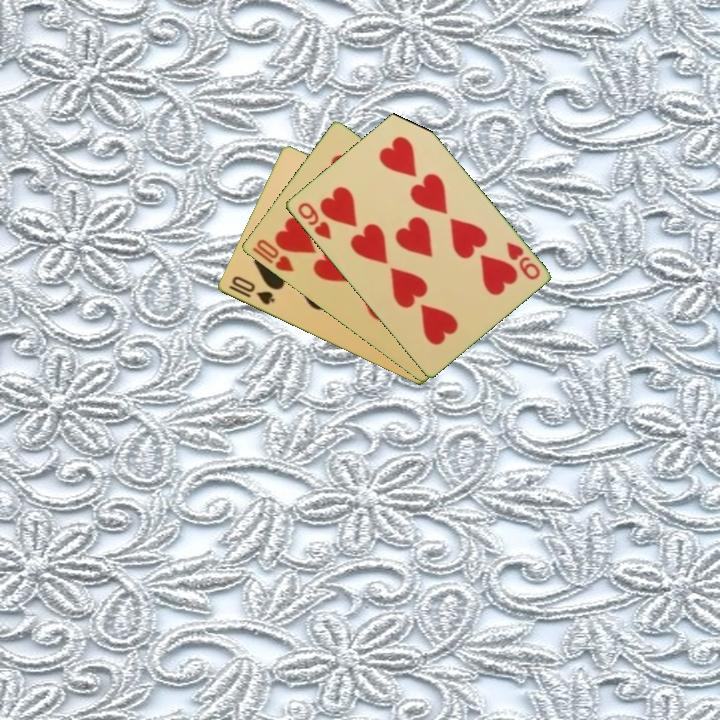10h: (248, 235, 297, 275)
10s: (228, 272, 277, 308)
9h: (502, 238, 543, 283), (294, 199, 334, 242)
